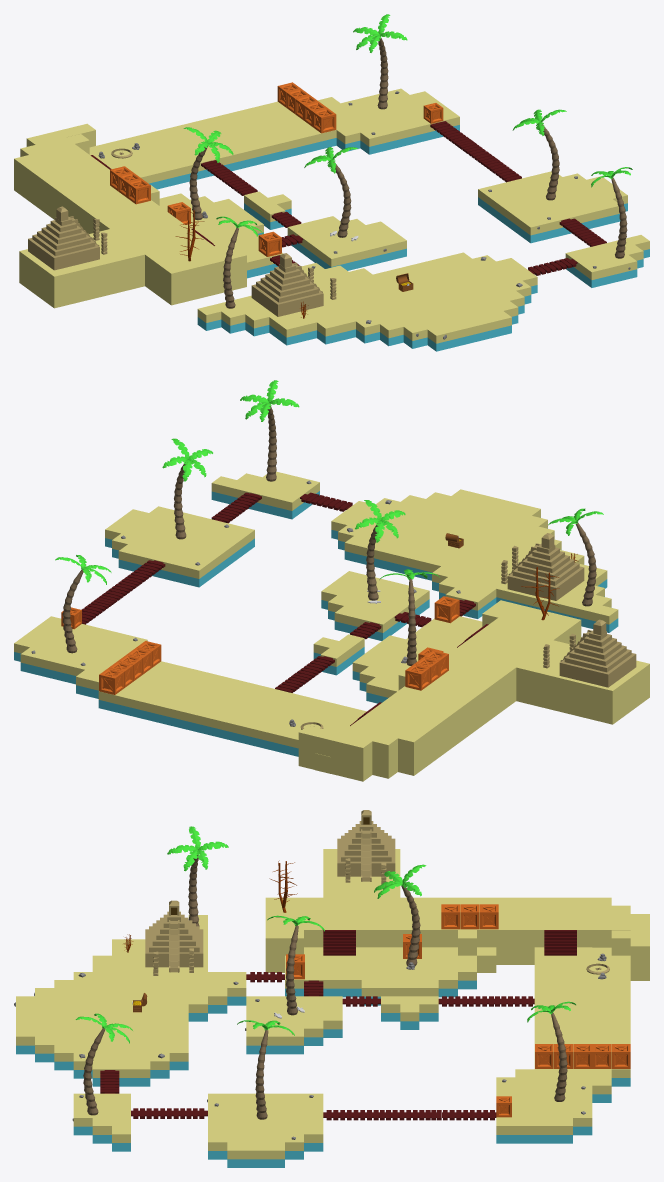
The model's file is Map_Combined_Surface.fbx.
3 views of the same model, one above another, from view 1: azimuth 30°, elevation 25°; view 2: azimuth 150°, elevation 25°; view 3: azimuth 270°, elevation 25° (orthographic). The views are drawn at different scales.
Visible parts, largest first — view 1: Cube.764, lvl_2 1, temple 2, temple 1, pohon 3, pohon 5, pohon 4, pohon 2, pohon 6, pohon 1, box 6, box 1 (+1 smaller); view 2: Cube.764, lvl_2 1, temple 2, temple 1, pohon 1, pohon 2, pohon 4, pohon 3, pohon 6, pohon 5, box 1, box 5 (+1 smaller); view 3: Cube.764, lvl_2 1, temple 2, temple 1, pohon 6, pohon 5, pohon 1, pohon 3, pohon 2, pohon 4, Cube.162, box 5 (+2 smaller).
Part boxes in pixels (box(x1,y1,x2,y2)): Cube.764: box(14, 88, 649, 351); lvl_2 1: box(14, 123, 246, 292); temple 2: box(28, 206, 107, 270); temple 1: box(251, 253, 323, 316); pohon 3: box(353, 14, 407, 109); pohon 5: box(183, 127, 233, 220); pohon 4: box(304, 147, 357, 237); pohon 2: box(512, 109, 566, 200); pohon 6: box(216, 216, 263, 308); pohon 1: box(591, 167, 632, 258); box 6: box(312, 108, 336, 133); box 1: box(258, 231, 281, 256); Cube.764: box(14, 471, 649, 781); lvl_2 1: box(298, 600, 649, 773); temple 2: box(543, 619, 636, 687); temple 1: box(507, 533, 584, 600); pohon 1: box(240, 380, 299, 481); pohon 2: box(162, 438, 212, 539); pohon 4: box(355, 500, 405, 600); pohon 3: box(55, 555, 111, 653); pohon 6: box(548, 508, 603, 606); pohon 5: box(379, 569, 439, 665); box 1: box(434, 596, 459, 623); box 5: box(405, 663, 430, 690); Cube.764: box(16, 915, 630, 1167); lvl_2 1: box(265, 849, 649, 963); temple 2: box(337, 810, 395, 886); temple 1: box(145, 900, 203, 967); pohon 6: box(167, 826, 228, 926); pohon 5: box(374, 864, 426, 965); pohon 1: box(75, 1013, 132, 1115); pohon 3: box(527, 1001, 575, 1101); pohon 2: box(237, 1020, 294, 1119); pohon 4: box(267, 915, 324, 1015); Cube.162: box(169, 920, 179, 972); box 5: box(479, 904, 498, 929).
Size of what is drawn, in the model's own units: 7000 by 1317 by 6619.
